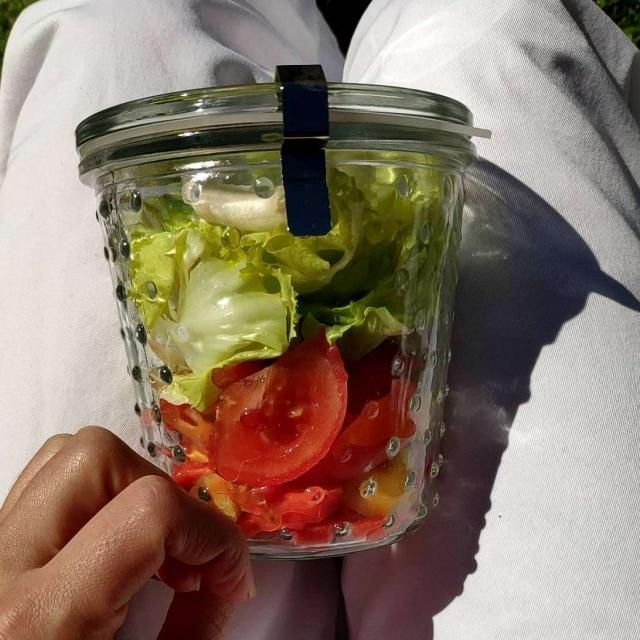salad: (113, 147, 453, 423)
tomato: (163, 341, 422, 536)
